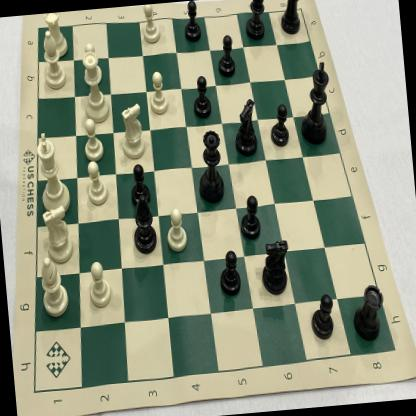bishop: (36, 255, 72, 318), (130, 192, 160, 255), (38, 29, 67, 92), (242, 0, 270, 43)
king: (295, 59, 336, 146), (34, 130, 72, 218)
knight: (40, 204, 75, 265), (259, 237, 293, 298), (117, 103, 148, 162), (232, 98, 260, 159)
pawn: (84, 258, 115, 312), (306, 293, 338, 343), (215, 249, 244, 300), (237, 192, 263, 244), (84, 160, 110, 208), (164, 206, 190, 254), (128, 161, 153, 210), (80, 115, 106, 162), (266, 103, 292, 149), (190, 73, 214, 120), (147, 68, 170, 116), (214, 33, 237, 78), (182, 0, 204, 45), (140, 4, 163, 46), (81, 42, 103, 84)
queen: (76, 50, 113, 125), (193, 126, 228, 204)
rook: (348, 282, 388, 344), (42, 12, 70, 60), (277, 0, 306, 38)
